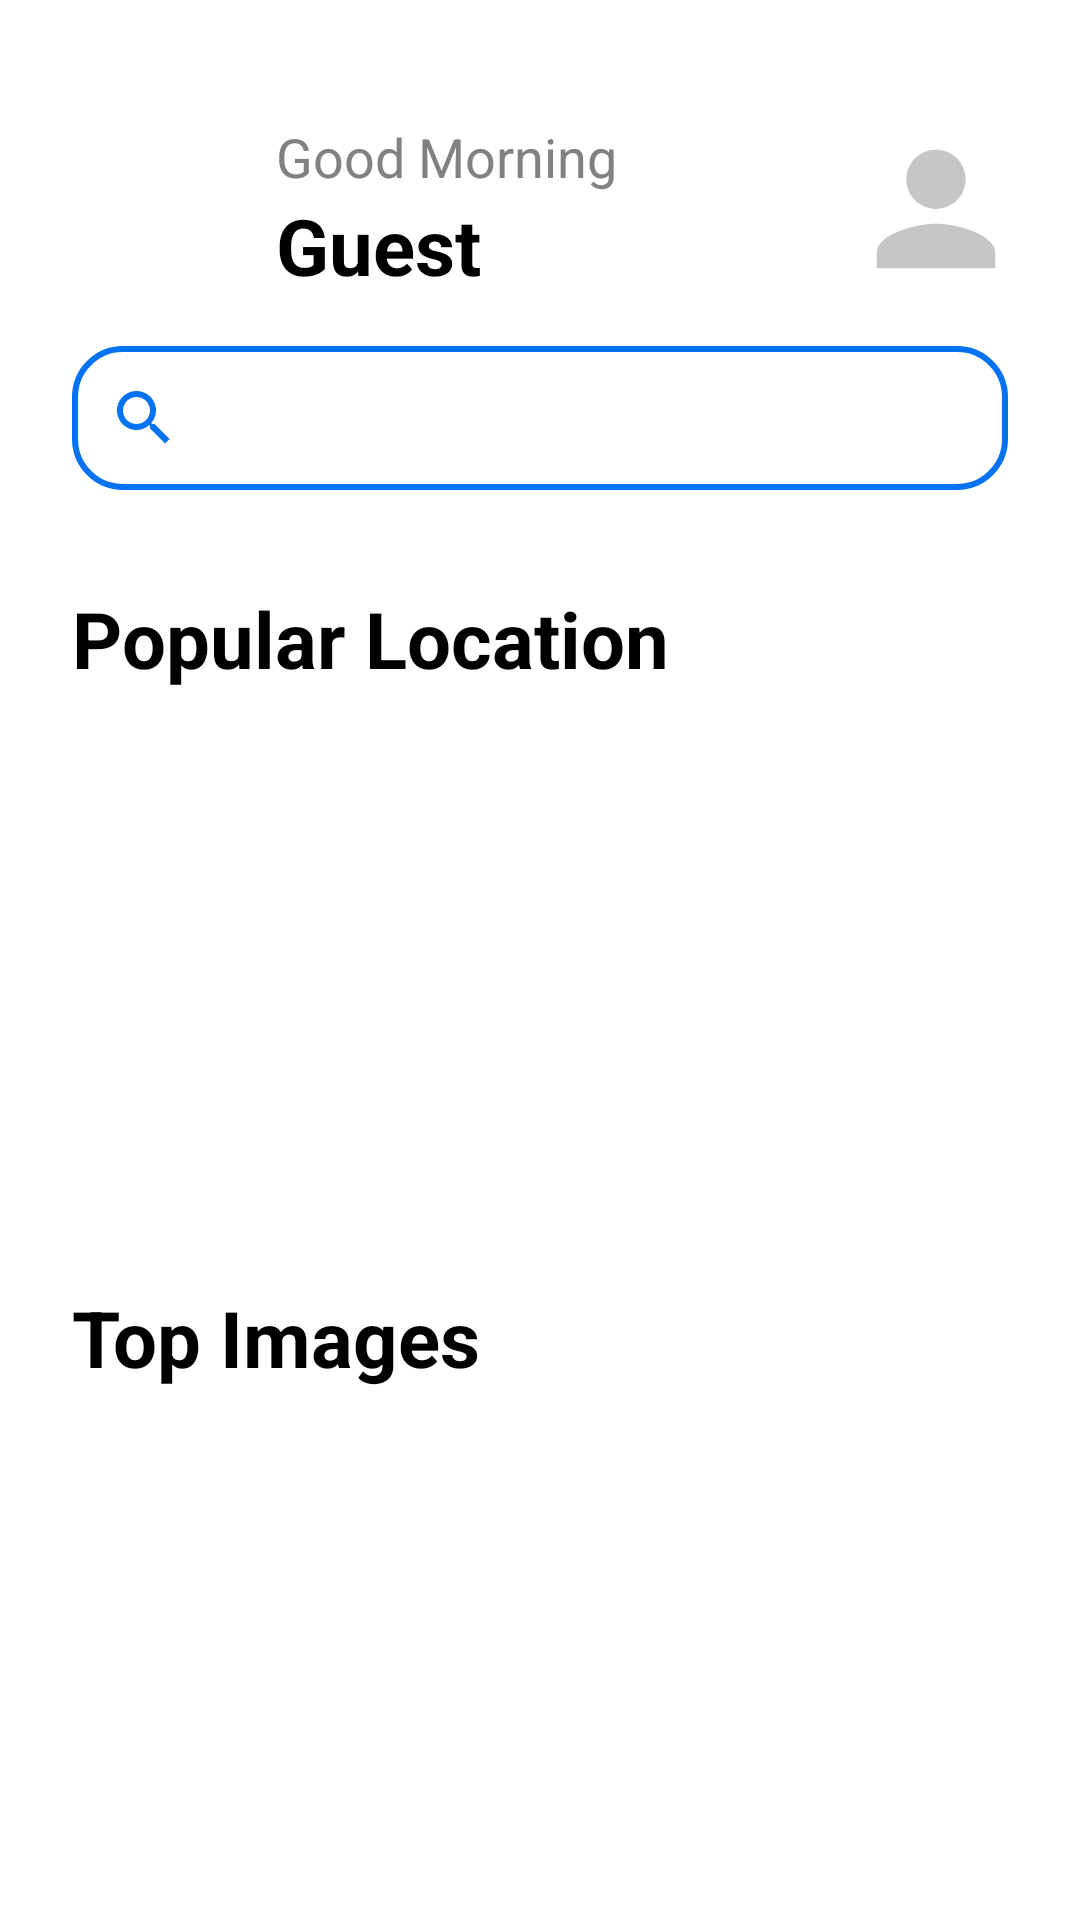

Where icons sit on this 1080px×1920px app screen, as [x1, y1, x2, y2]:
person: [877, 150, 995, 268]
